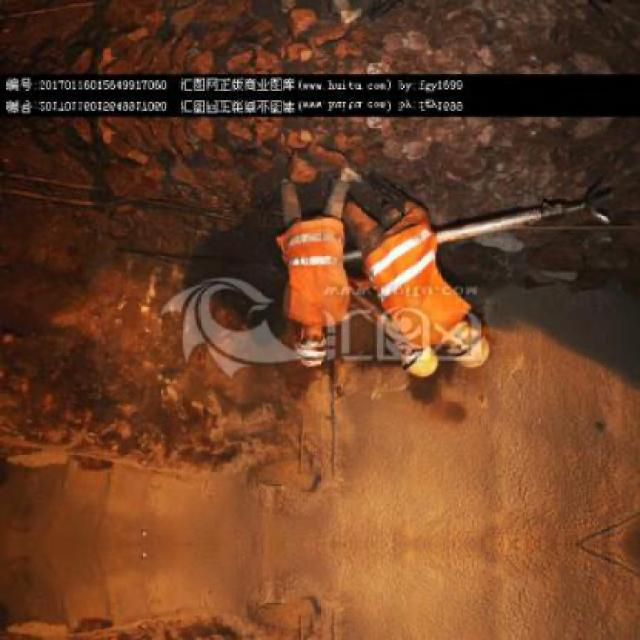con casco: (364, 328, 530, 394)
